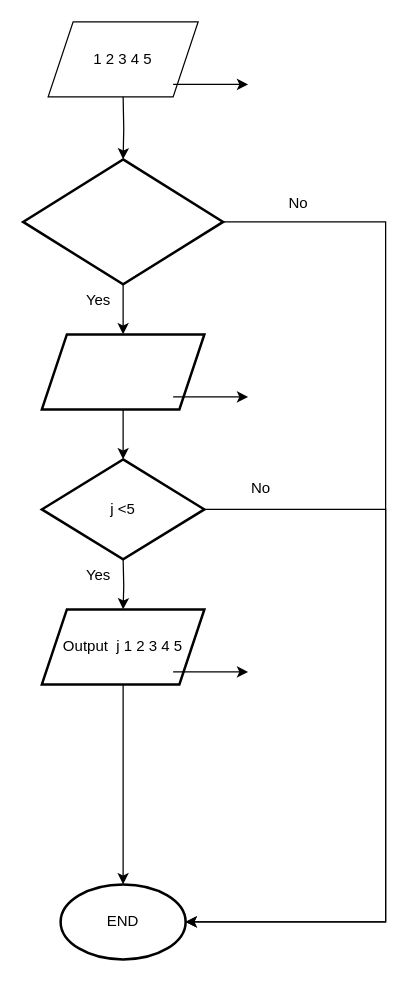
This 418x983 diagram has some shape labels left out. Here are the shapes that lost their labels. From the top down, the centre of each, then its label:
[122,221]: i <5
[122,371]: Output i 1 2 3 4 5
